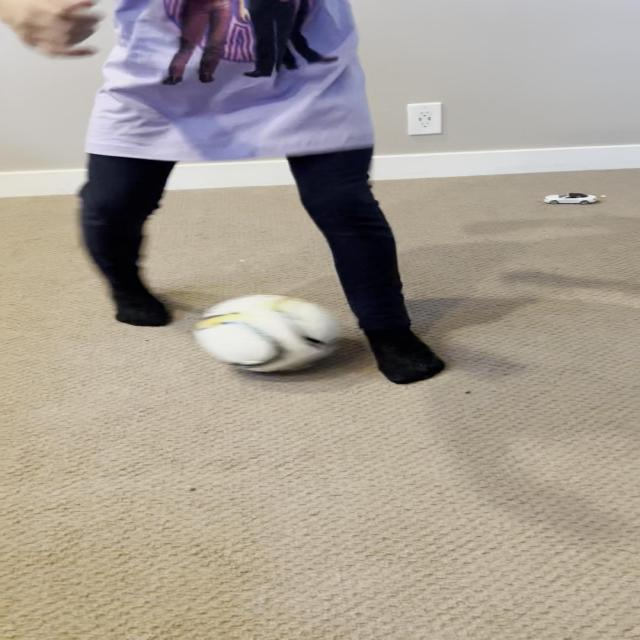Soccer Ball: (195, 293, 345, 374)
